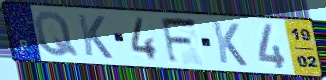4: (257, 22, 289, 71), (130, 16, 160, 63)
F: (158, 16, 201, 67)
K: (75, 12, 115, 61), (210, 20, 250, 68)
Q: (32, 10, 81, 58)
